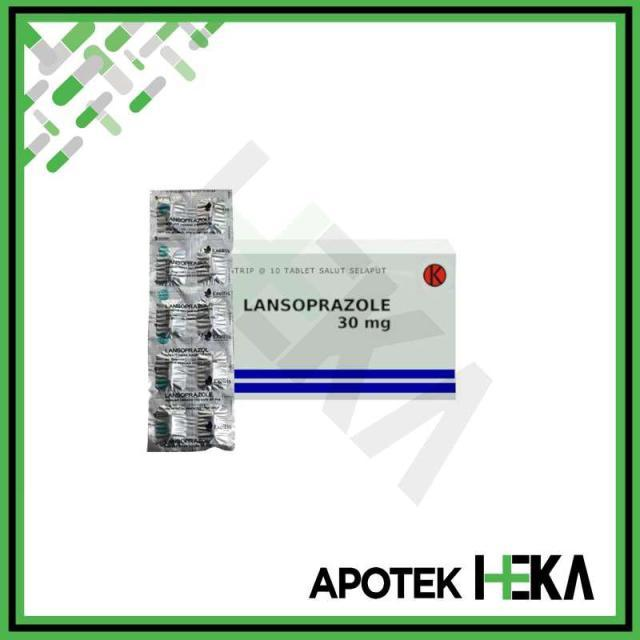drug-name: (238, 292, 392, 316)
